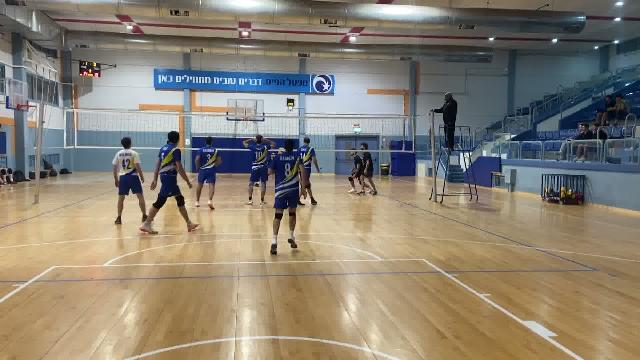ball: (275, 147, 287, 157)
